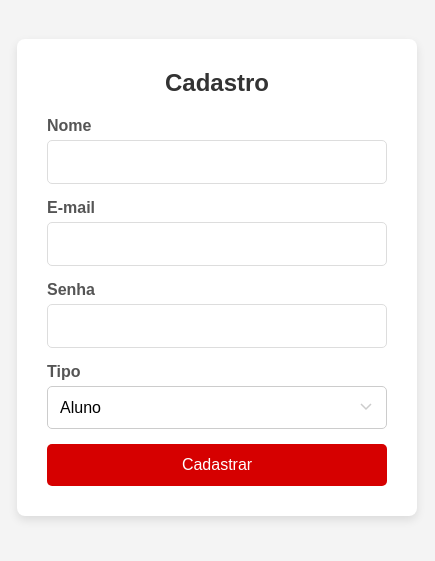
Test: Cadastro — erros do Firebase traduzidos (AC-AUTH-05) › avisa quando o e-mail já está em uso
Type "Outra Ana" into the field labelled "Nome" at (217, 162), box left=47, top=140, right=387, bottom=184
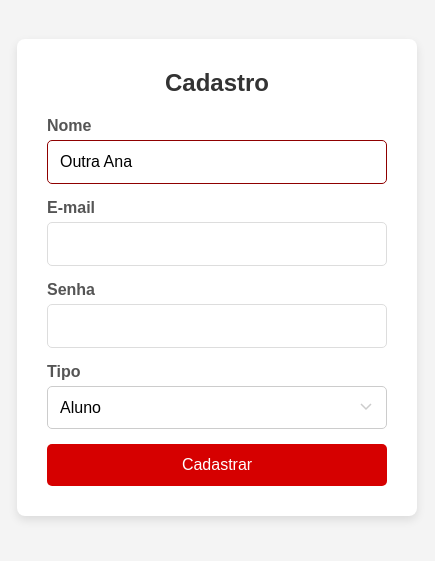
Type "ana@senai.br" into the field labelled "E-mail" at (217, 244), box left=47, top=222, right=387, bottom=266
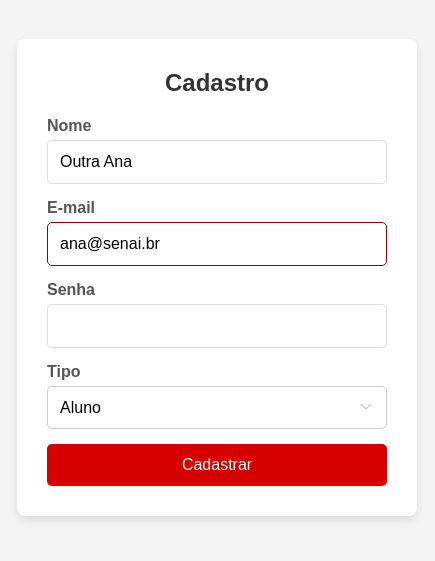
Type "senha456" into the password field labelled "Senha" at (217, 326), box left=47, top=304, right=387, bottom=348
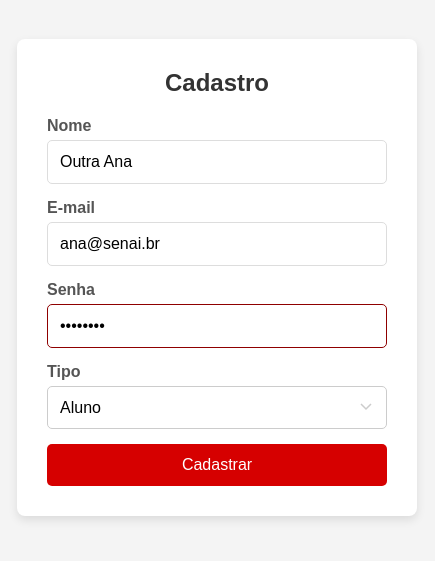
Click the button "Cadastrar" at (217, 464), box left=47, top=444, right=387, bottom=486
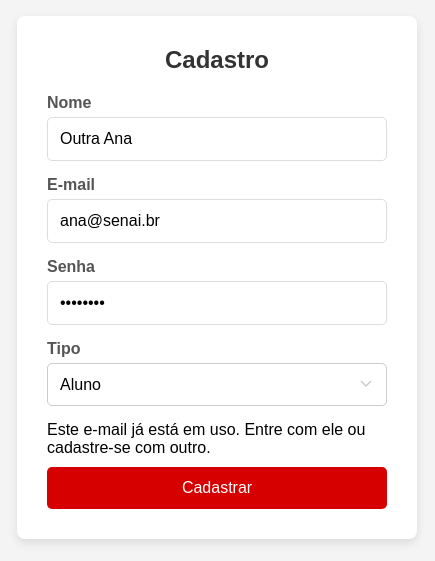
Check: the text "Este e-mail já está em uso. Entre com ele ou cadastre-se com outro." is shown, box left=47, top=420, right=387, bottom=456
